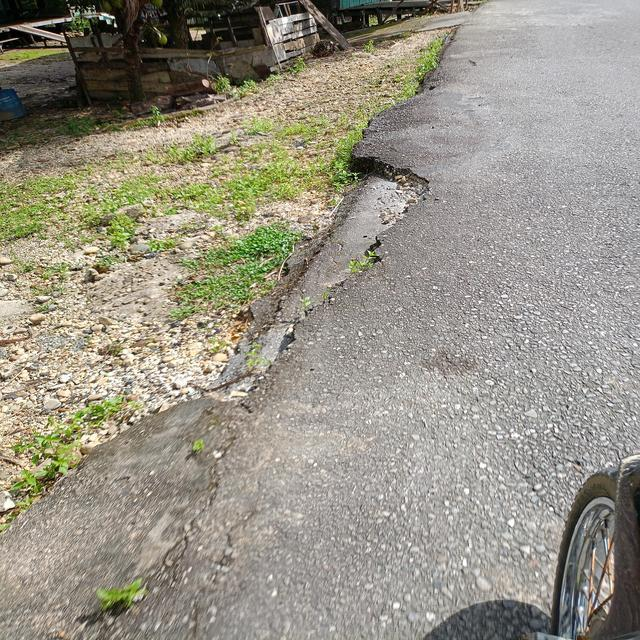Pinggir: (160, 136, 442, 431)
